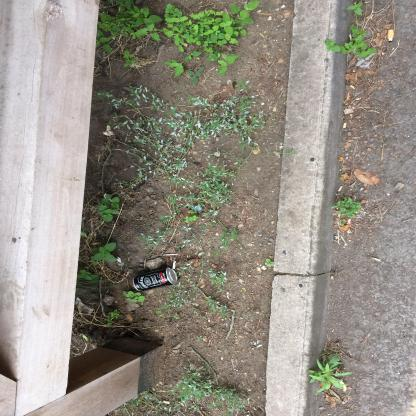metal: (132, 268, 178, 292)
